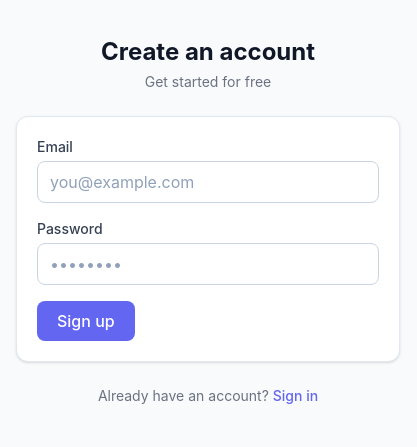
should_display_error_message_on_failed_signup
The image size is (417, 447).
Click the button "Sign up" at point(86, 321), box x1=37 y1=301 x2=135 y2=341
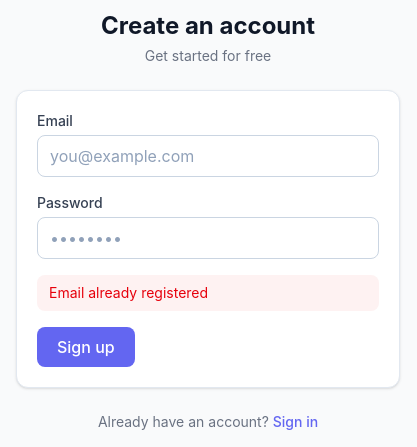
Now the text "Email already registered" is shown, box x1=37 y1=275 x2=379 y2=311
